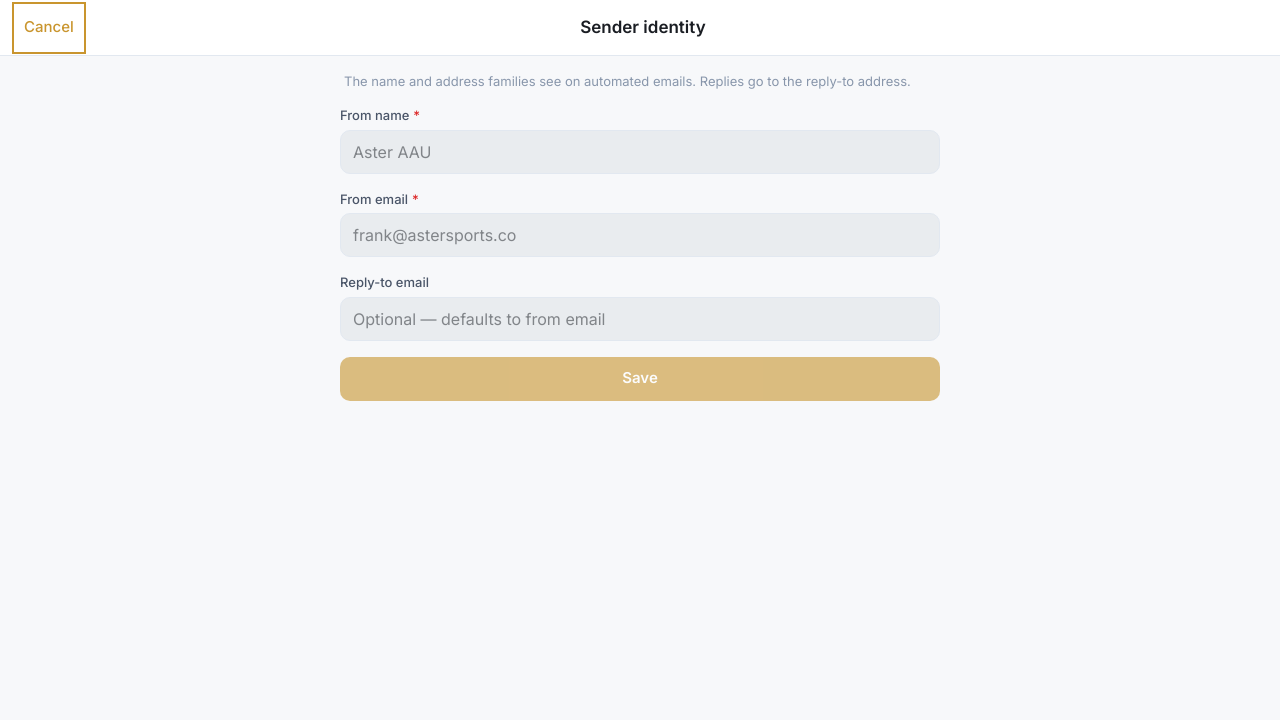
Test: SenderIdentityForm › Save is disabled until from name + from email are both present
Expected: the button "Save" is disabled, [340,357,940,401]
Type "LH" into the field labelled "From name*" at {"x": 640, "y": 152}, box [340,130,940,174]
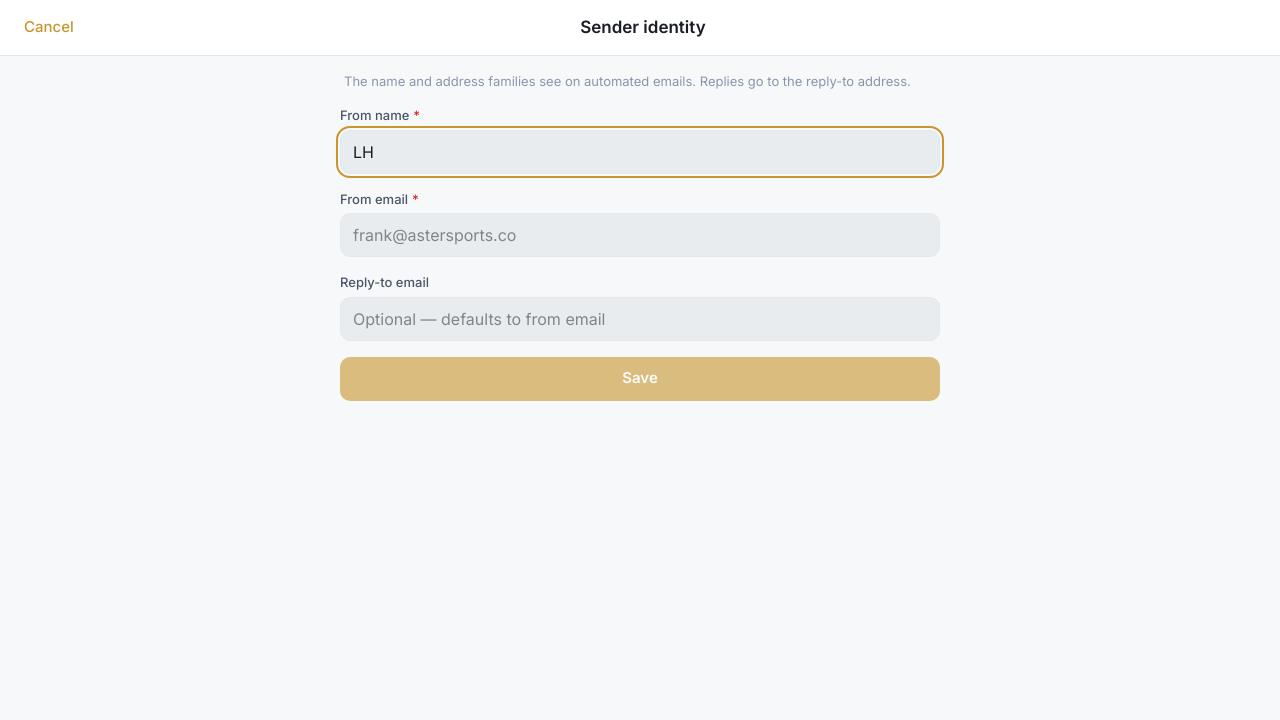
Type "a@lh.org" into the field labelled "From email*" at {"x": 640, "y": 235}, box [340,213,940,257]
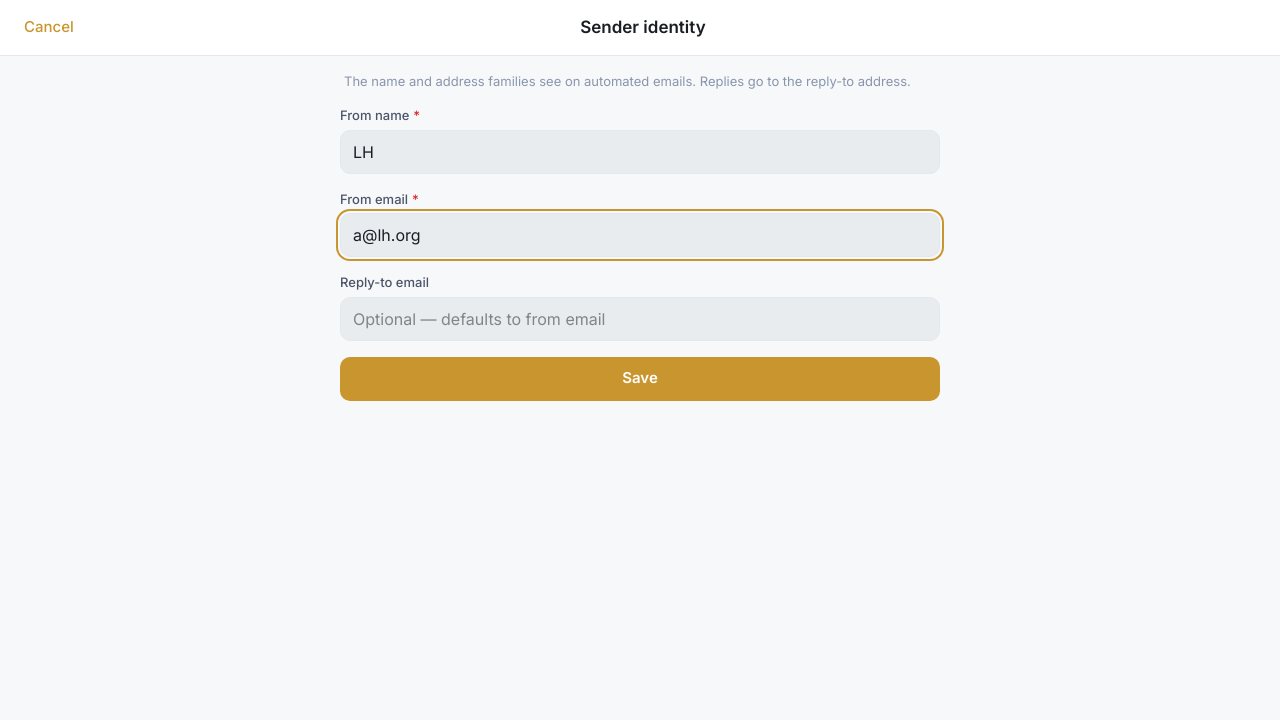
Expected: the button "Save" is enabled, [340,357,940,401]
